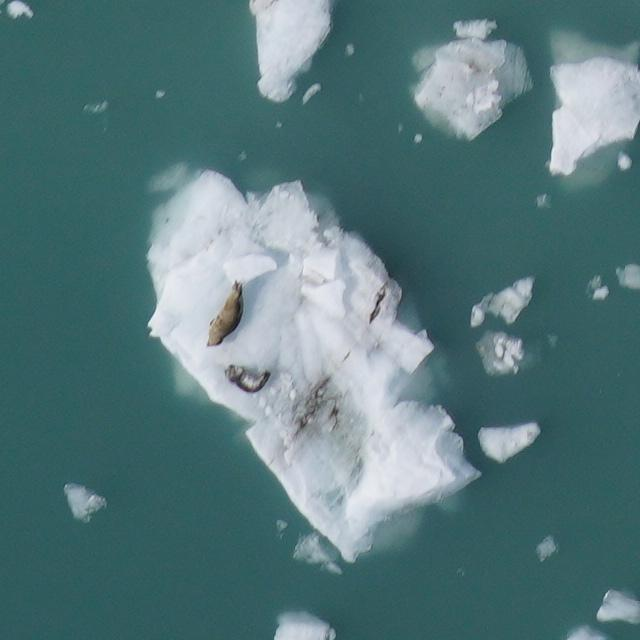seal: (200, 278, 256, 356), (224, 362, 272, 397)
